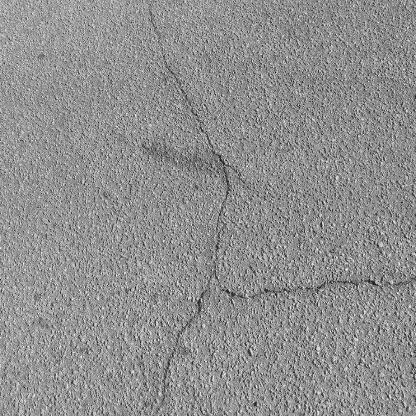Cracks: (145, 5, 416, 416)
